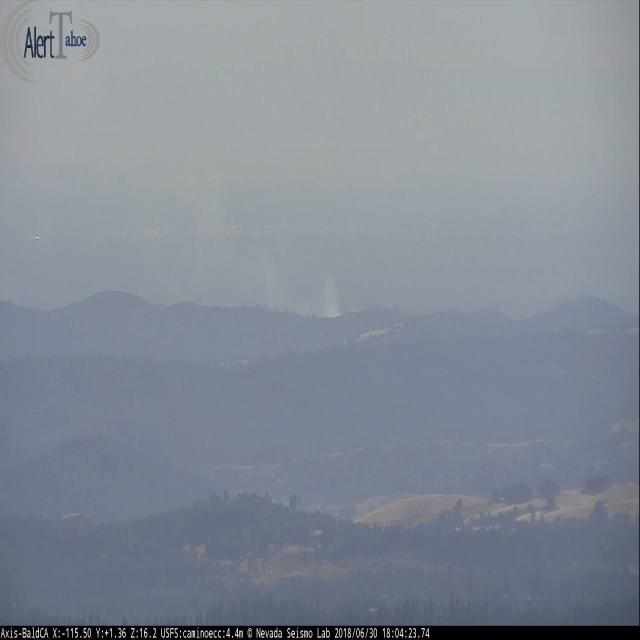smoke: (315, 278, 344, 319)
